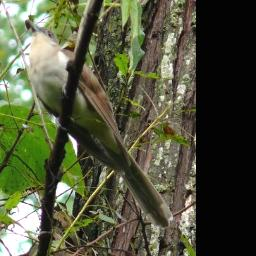Cuckoo: (25, 19, 174, 230)
